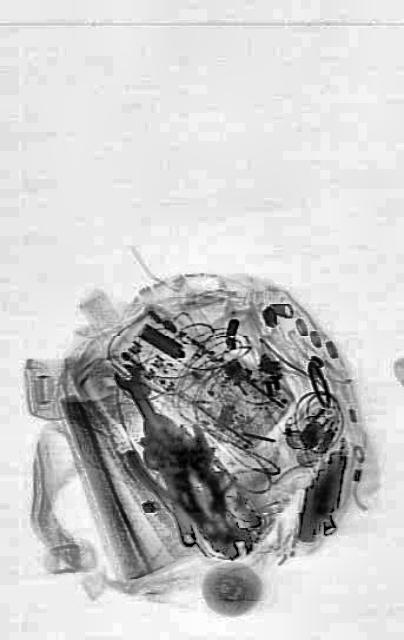Wrench: (110, 352, 168, 443)
